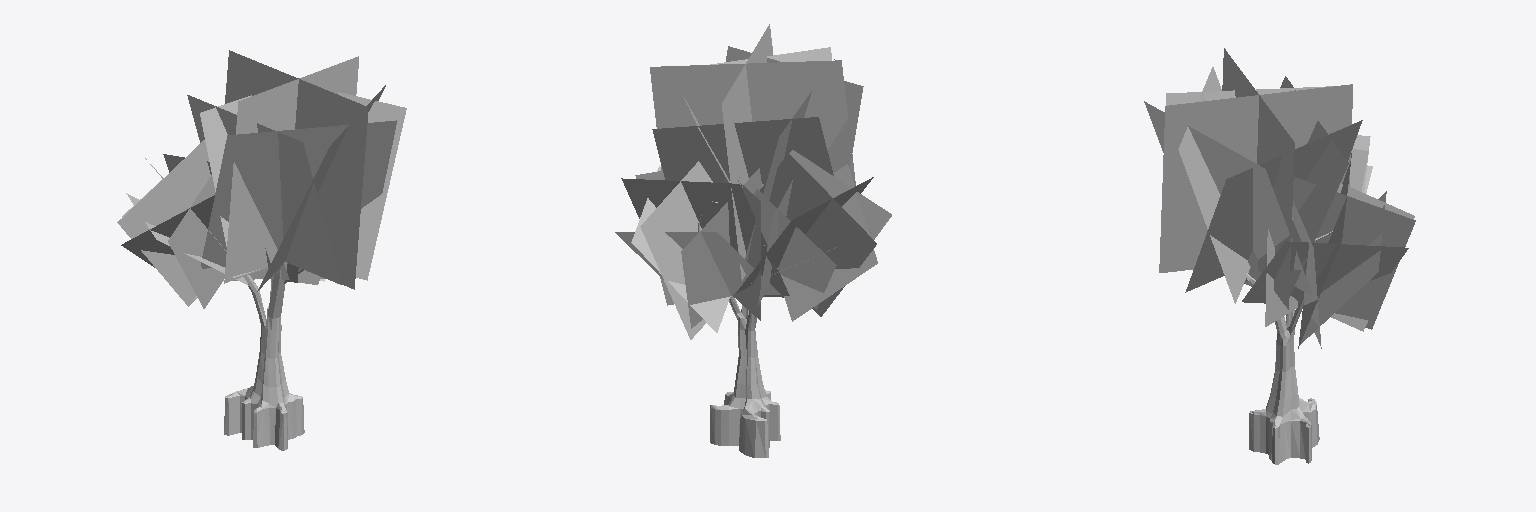
Rendered from tree_1.obj.
The picture shows the model from 3 angles: view 1: azimuth 30°, elevation 25°; view 2: azimuth 150°, elevation 25°; view 3: azimuth 270°, elevation 25°; orthographic projection.
Size of the model in its own units: 9.79 by 14.04 by 9.3.